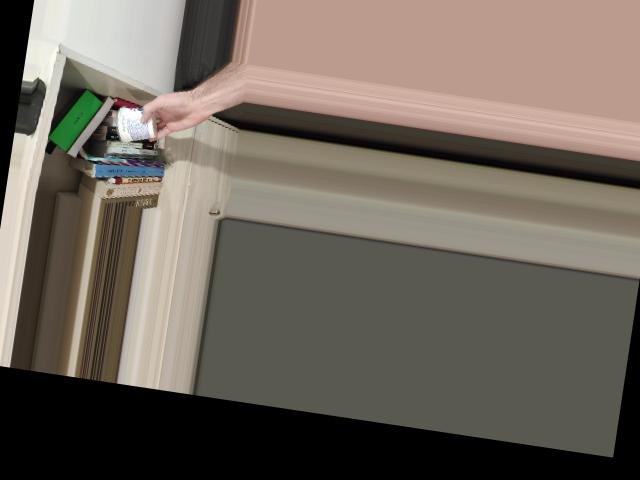cotage: (111, 99, 170, 150)
